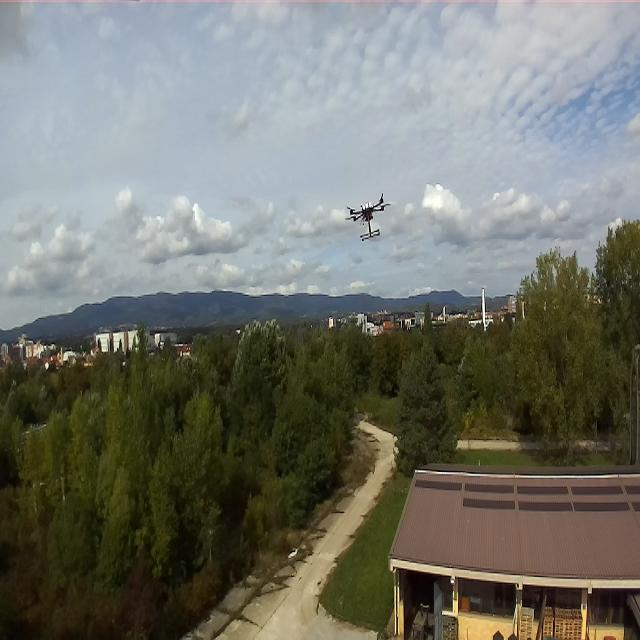UAV: (338, 190, 394, 242)
